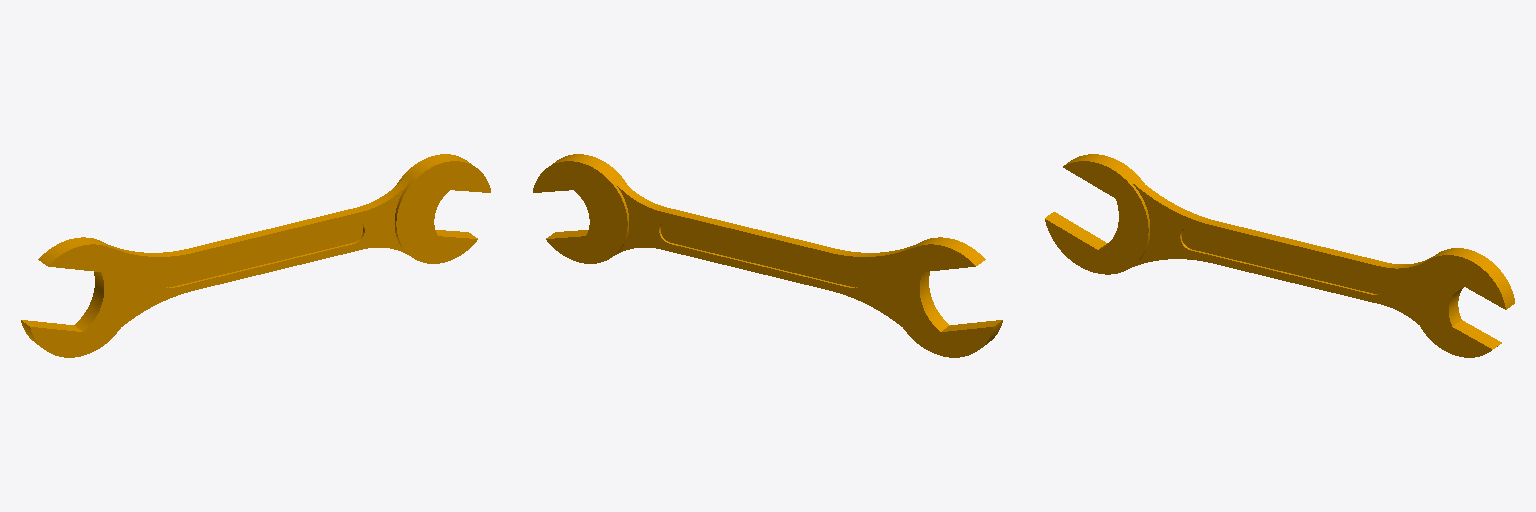
The robot description file, URDF, robot "wrench_2_L0.85_T0.85":
<?xml version="1.0" encoding="utf-8"?>
<robot name="wrench_2_L0.85_T0.85">
  <link name="wrench_2_L0.85_T0.85Link">
    <contact>
      <lateral_friction value="1"/>
    </contact>
    <inertial>
      <origin rpy="0 0 0" xyz="0 0 0"/>
      <mass value="0.0"/>
      <inertia ixx="0" ixy="0" ixz="0" iyy="0" iyz="0" izz="0"/>
    </inertial>
    <visual>
      <origin rpy="0 0 0" xyz="0 0 0"/>
      <geometry>
        <mesh filename="generated_stl/wrench/wrench_2/wrench_2_L0.85_T0.85/wrench_2_L0.85_T0.85.stl" scale="0.01 0.01 0.01"/>
      </geometry>
    </visual>
    <collision>
      <origin rpy="0 0 0" xyz="0 0 0"/>
      <geometry>
        <mesh filename="generated_stl/wrench/wrench_2/wrench_2_L0.85_T0.85/wrench_2_L0.85_T0.85.stl" scale="0.01 0.01 0.01"/>
      </geometry>
    </collision>
  </link>
</robot>

--- Render facts (derived) ---
3 views of the same robot in one strip: view 1: azimuth 30°, elevation 25°; view 2: azimuth 150°, elevation 25°; view 3: azimuth 330°, elevation 25° (orthographic).
Robot: wrench_2_L0.85_T0.85 — 1 links, 0 joints (none); root link wrench_2_L0.85_T0.85Link; default pose: all joints at 0.
Links seen in each view (by area): view 1: wrench_2_L0.85_T0.85Link; view 2: wrench_2_L0.85_T0.85Link; view 3: wrench_2_L0.85_T0.85Link.
Link boxes in pixels (x1=…): wrench_2_L0.85_T0.85Link: x1=21, y1=154, x2=490, y2=357; wrench_2_L0.85_T0.85Link: x1=533, y1=154, x2=1002, y2=357; wrench_2_L0.85_T0.85Link: x1=1045, y1=154, x2=1514, y2=357.
Bounding box of the posed robot: 0.068 × 0.0024 × 0.0156 m (x, y, z).
Meshes: 1 distinct files referenced, 1 mesh visuals loaded (1 binary STL).